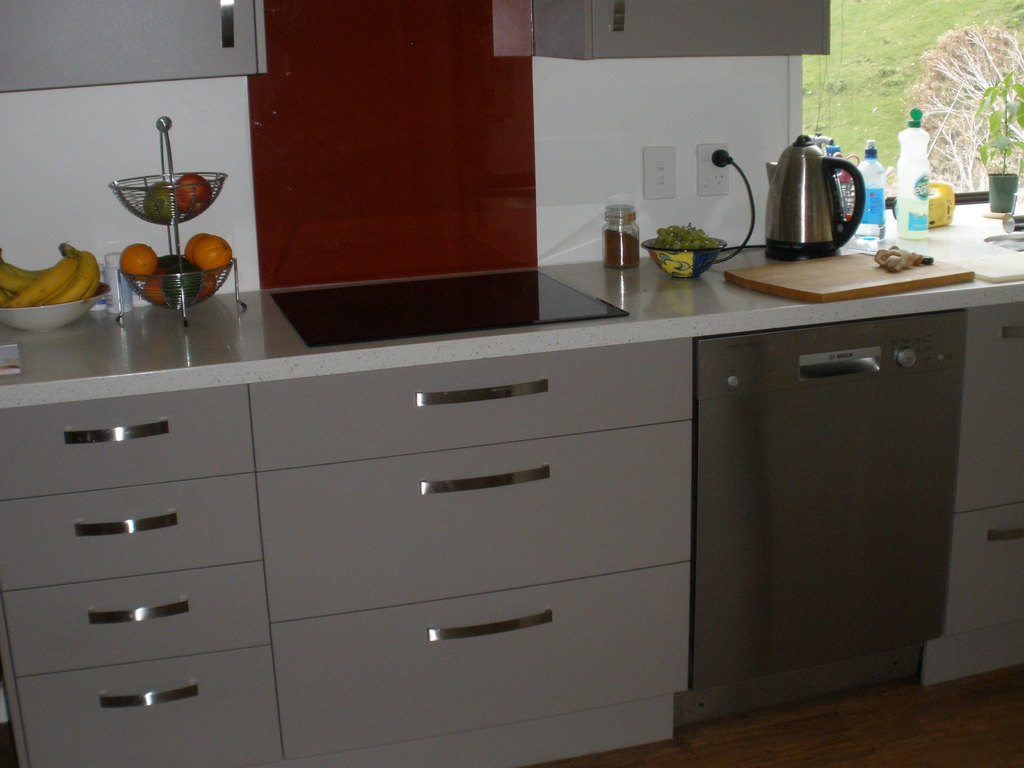cabinet door: (274, 471, 687, 570), (294, 601, 692, 698), (36, 660, 270, 762), (255, 380, 684, 429), (12, 578, 266, 650), (0, 7, 270, 69), (13, 494, 257, 560), (11, 411, 251, 475), (969, 317, 1024, 503), (598, 1, 819, 42), (963, 510, 1024, 605)
handle: (414, 468, 550, 499), (422, 614, 558, 643), (73, 501, 182, 537), (411, 379, 551, 407), (102, 678, 201, 714), (60, 425, 171, 445), (90, 605, 191, 626), (987, 523, 1024, 548), (218, 7, 237, 53), (996, 322, 1024, 340), (610, 4, 622, 36)
